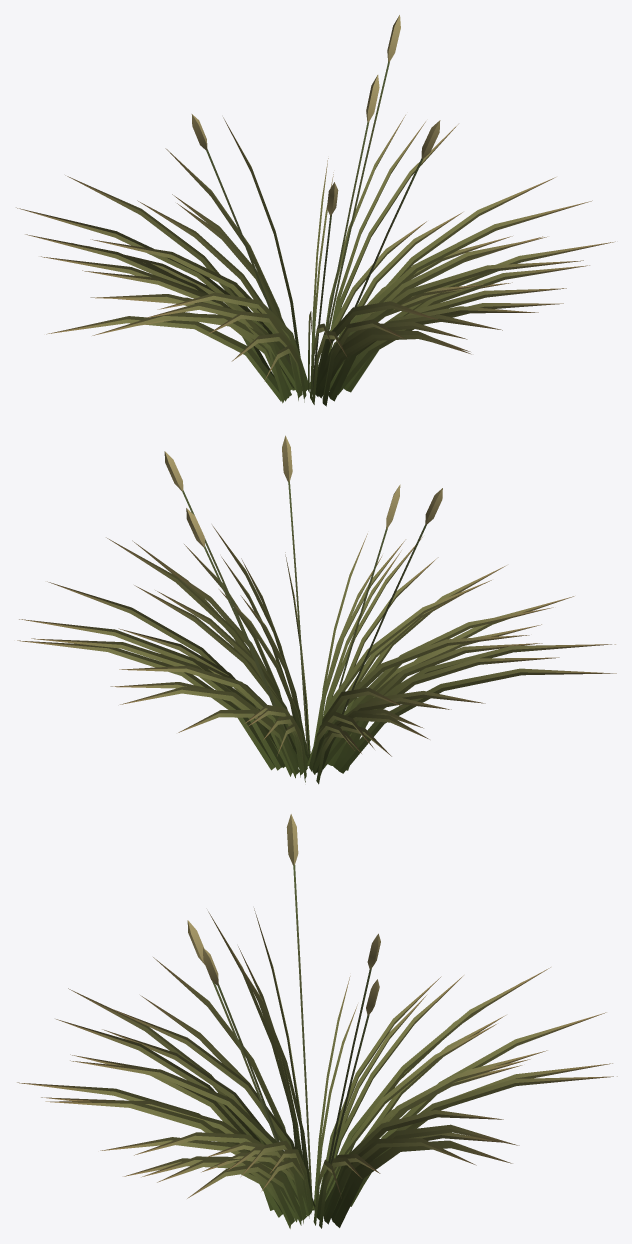
Rendered from grass-fountain.lod0.glb.
3 views of the same model, one above another, from view 1: azimuth 30°, elevation 25°; view 2: azimuth 150°, elevation 25°; view 3: azimuth 270°, elevation 25° (orthographic). The views are drawn at different scales.
Visible parts, largest first — view 1: grass_fountain_mesh; view 2: grass_fountain_mesh; view 3: grass_fountain_mesh.
Boxes of the visible parts, x1=… form: grass_fountain_mesh: x1=16, y1=15, x2=615, y2=406; grass_fountain_mesh: x1=17, y1=435, x2=616, y2=784; grass_fountain_mesh: x1=17, y1=814, x2=617, y2=1228.
Bounding box in the file's own units: 1.62 × 0.9043 × 1.44.
1 material, 1 textured.
